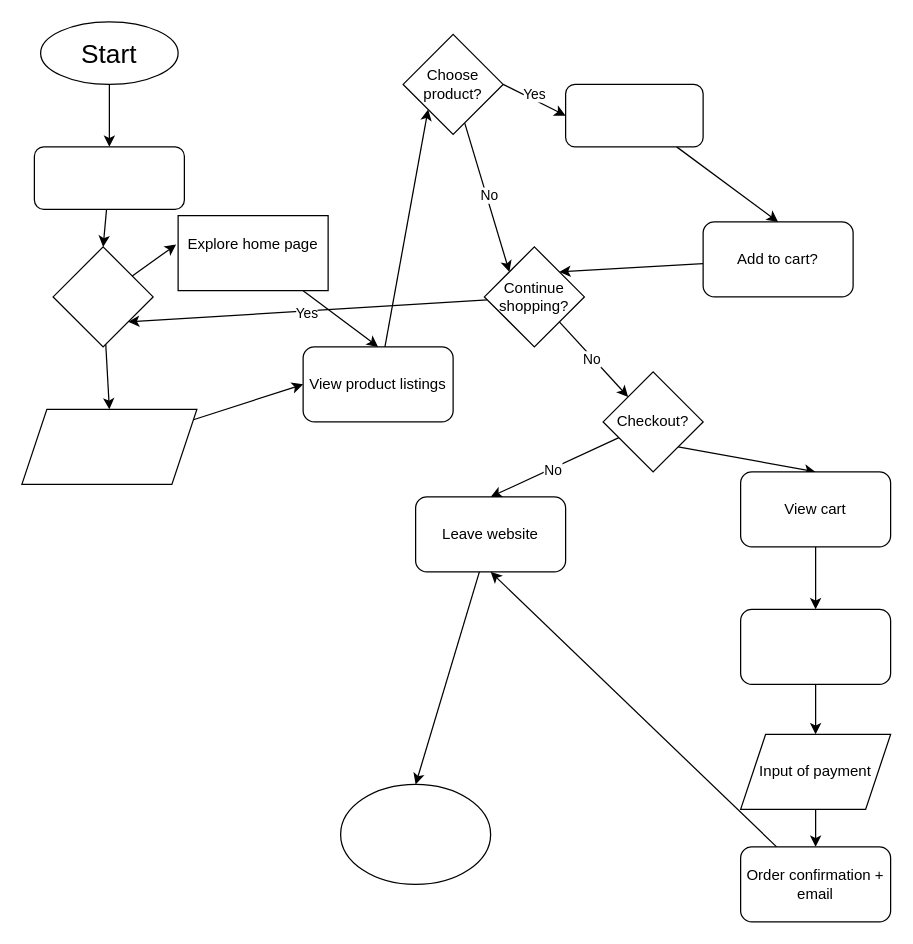
Some shapes in this 913 by 944 pixel diagram are drawn without their labels. The centre of each missing label's shape, as x and y in pixels:
"End" belongs at pixel 415 833.
"Open product page" belongs at pixel 633 115.
"Search for a product" belongs at pixel 109 446.
"User has two options" belongs at pixel 102 296.
"User opens website." belongs at pixel 108 177.
"View payment" belongs at pixel 815 646.
